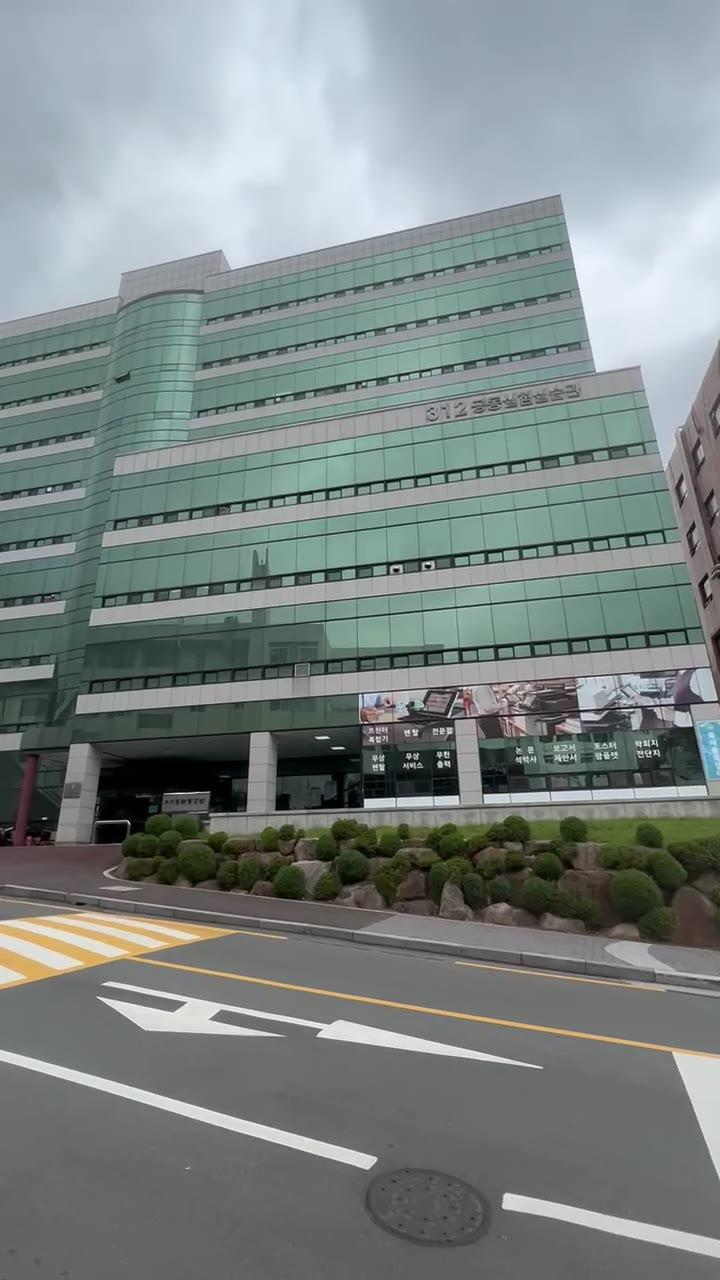building: (22, 240, 684, 686)
